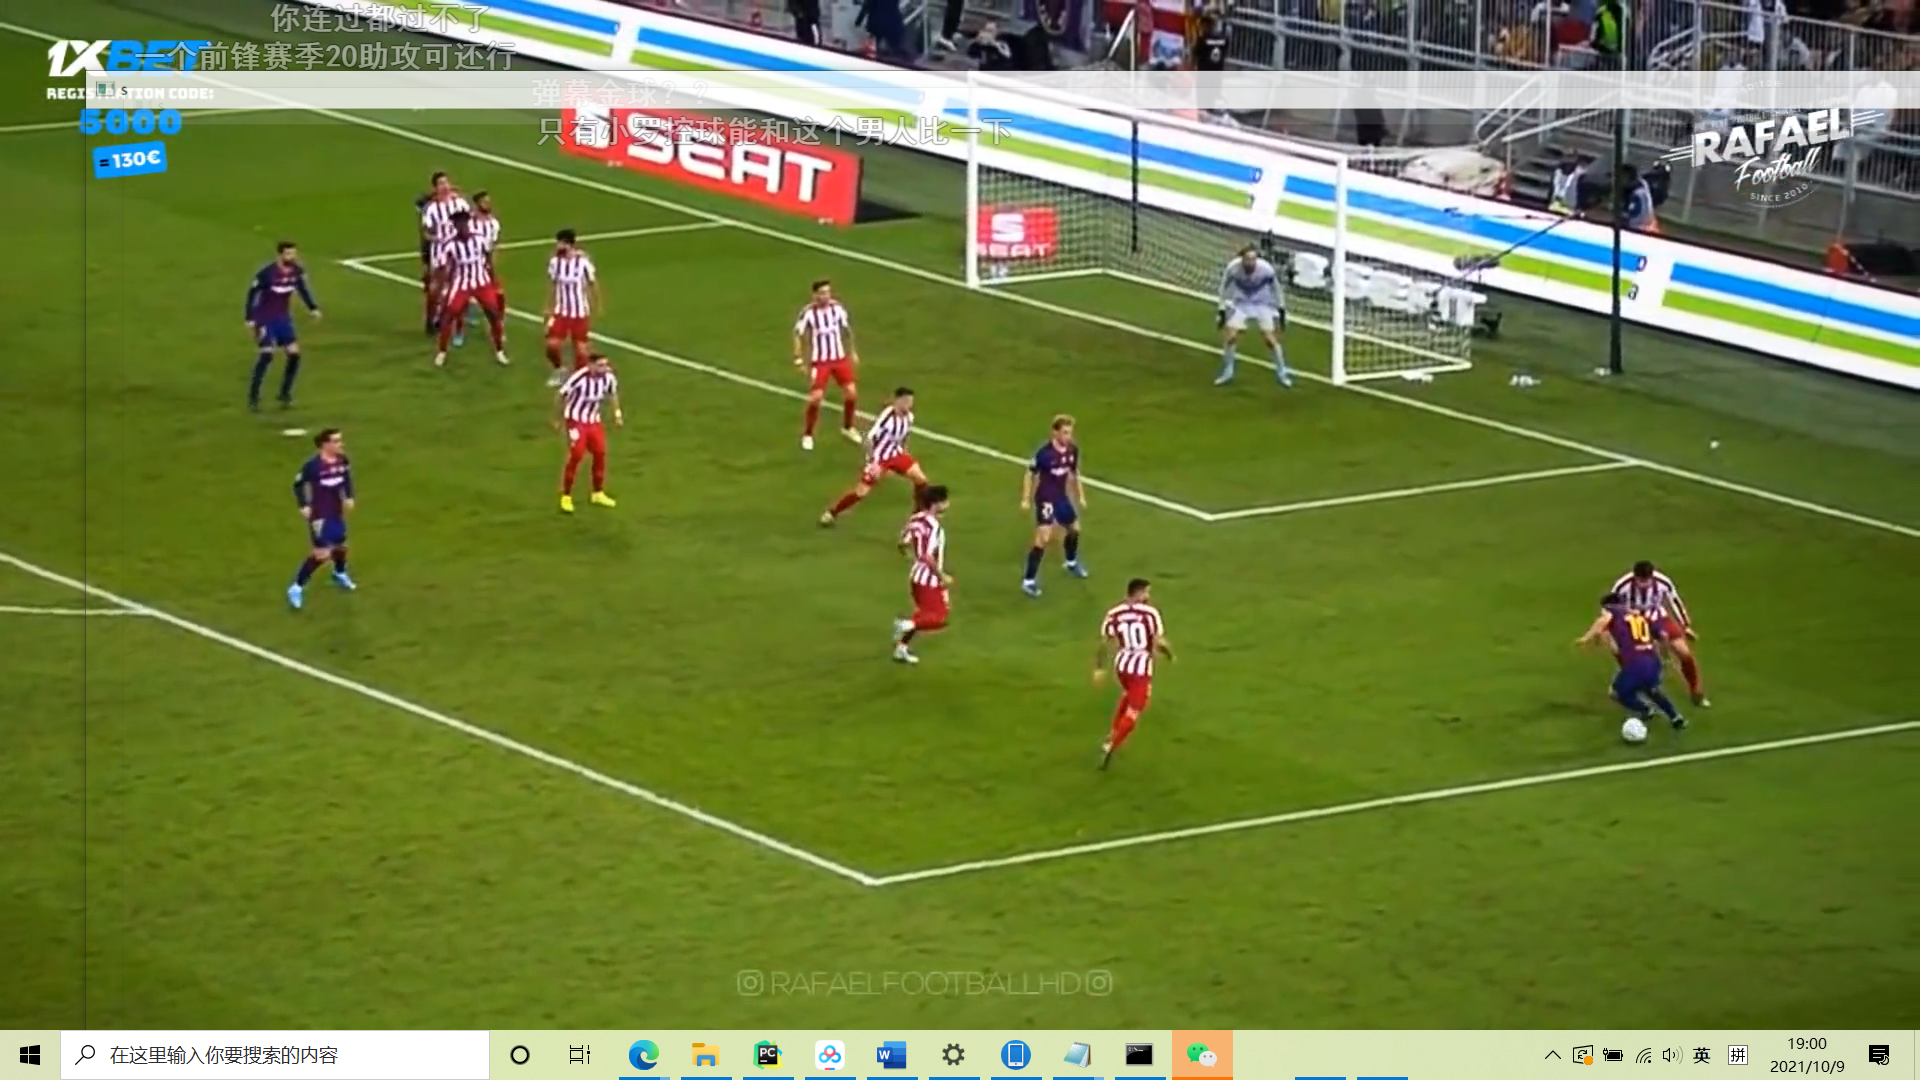ft: (1619, 716, 1651, 745)
